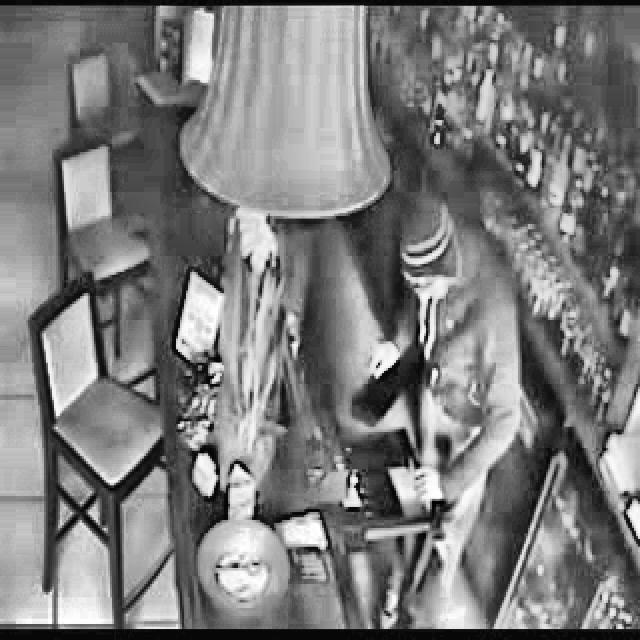burglary: (334, 188, 529, 630)
